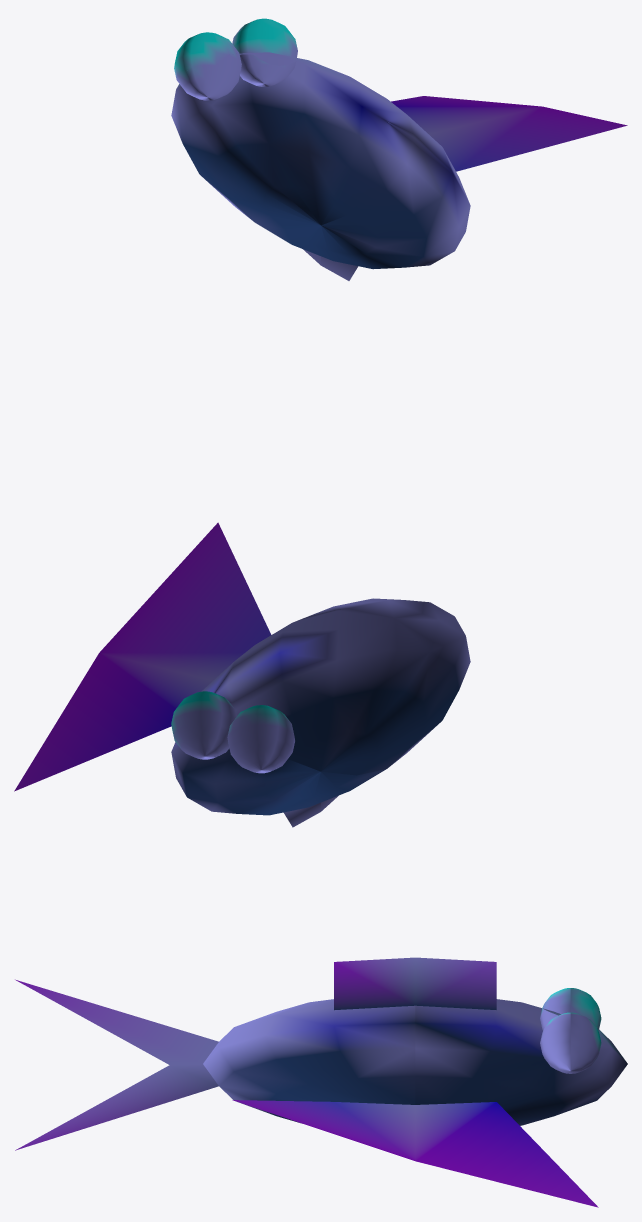
File: flippy.glb
3 views of the same model, one above another, from view 1: azimuth 30°, elevation 25°; view 2: azimuth 150°, elevation 25°; view 3: azimuth 270°, elevation 25° (orthographic). The views are drawn at different scales.
Parts seen in each view (by area): view 1: Flippy; view 2: Flippy; view 3: Flippy.
Part boxes in pixels (<box>): Flippy: <box>171,18,627,280</box>; Flippy: <box>14,522,470,827</box>; Flippy: <box>15,957,627,1207</box>.
Size of the model in its own units: 0.8691 by 0.4182 by 1.16.
